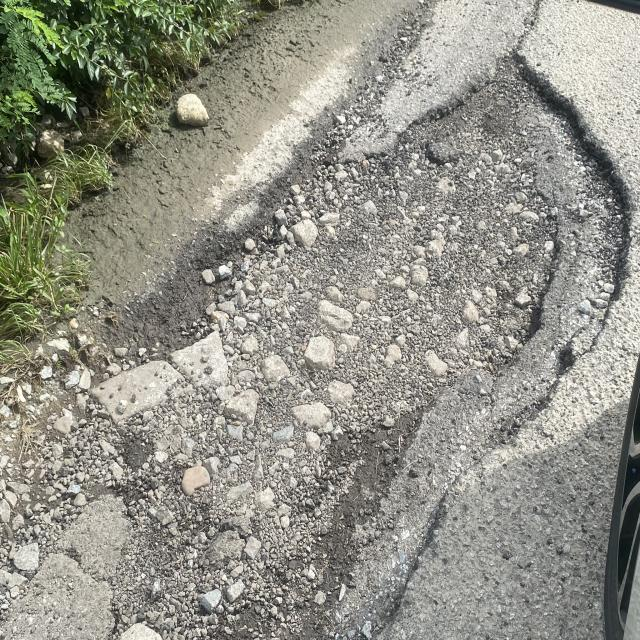pothole: (409, 14, 640, 568)
